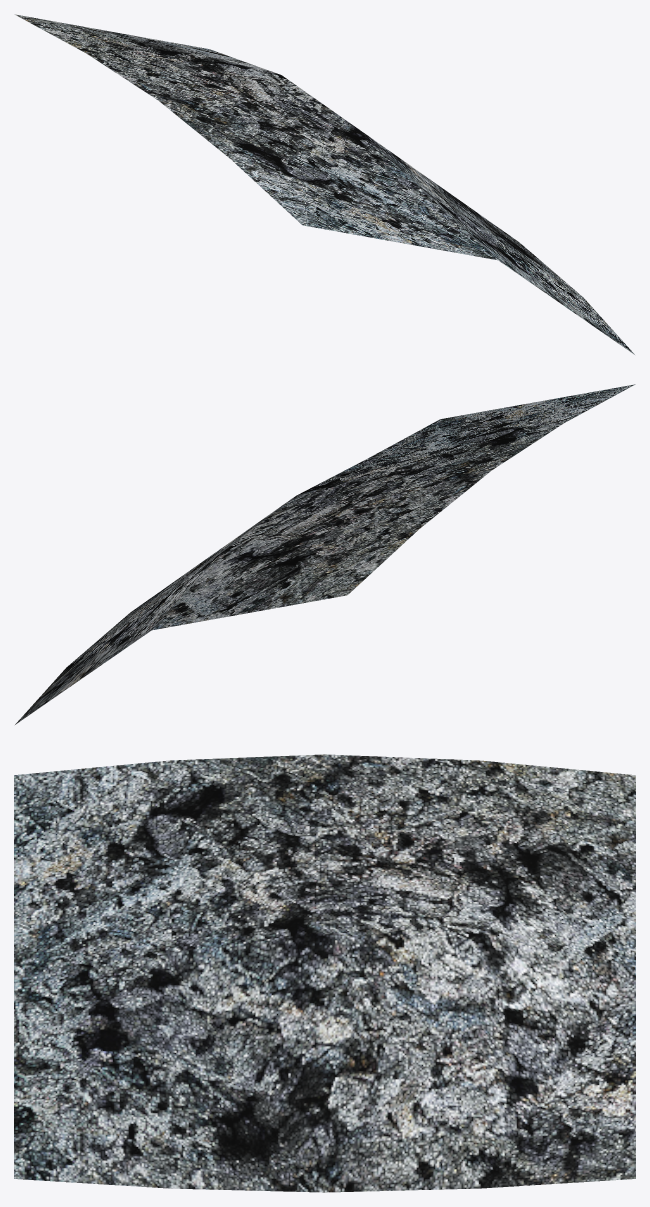
The model's file is zola.fbx.
The picture shows the model from 3 angles, top to bottom: view 1: azimuth 30°, elevation 25°; view 2: azimuth 150°, elevation 25°; view 3: azimuth 270°, elevation 25°; orthographic projection. The views are drawn at different scales.
Parts seen in each view (by area): view 1: zola; view 2: zola; view 3: zola.
Boxes of the visible parts, x1=… form: zola: x1=14, y1=14, x2=634, y2=354; zola: x1=15, y1=384, x2=635, y2=724; zola: x1=14, y1=754, x2=635, y2=1192.
Size of the model in its own units: 0.2475 by 0.1512 by 0.3422.
